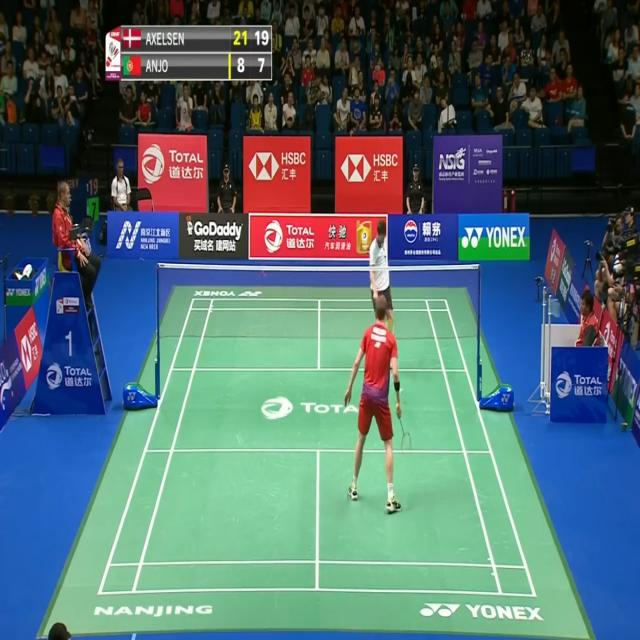Player1: (342, 294, 416, 518)
Player2: (368, 216, 400, 359)
